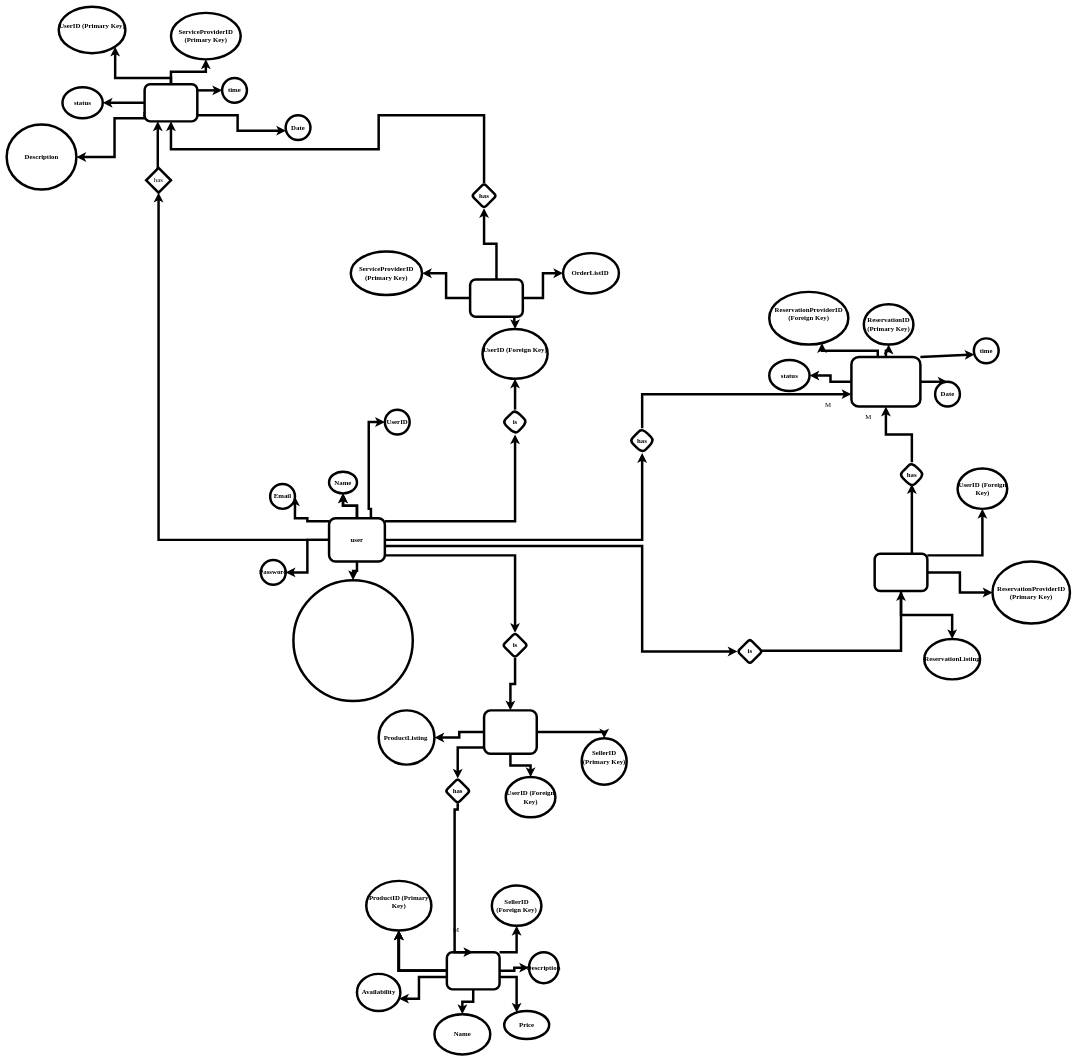
The diagram is 1076 pixels wide and 1061 high, and some of its shapes have lost their labels. Here are the shapes that lost their labels. From the top down, the centre of each, then its label:
point (170, 102): Service Requist
point (496, 298): Service Provider
point (885, 382): Reservation
point (900, 572): Reservation Provider
point (353, 640): UserType (Regular, Seller, Reservation Provider, Service Provider)
point (510, 732): Seller
point (473, 970): Product
